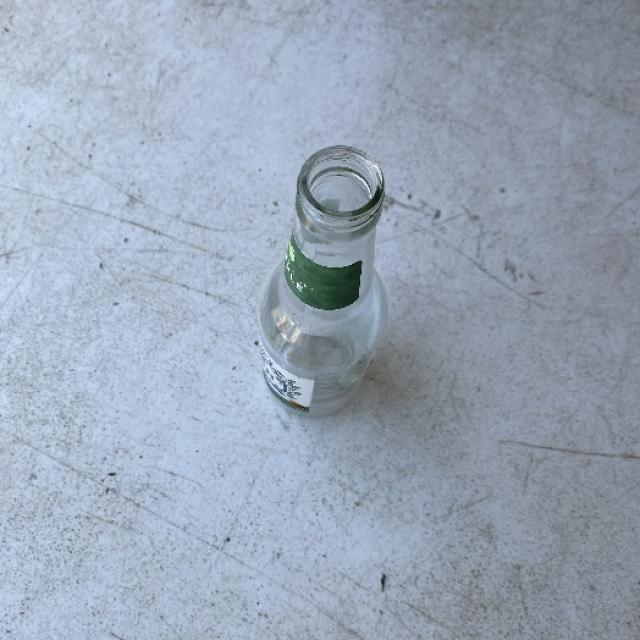kaca: (256, 152, 388, 426)
